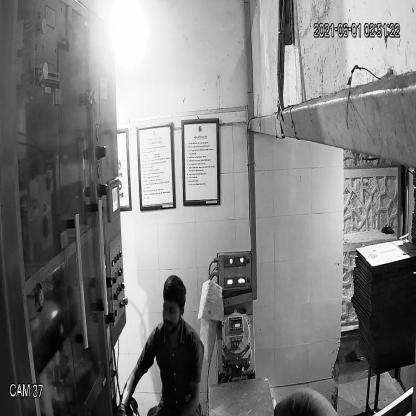no_goggles: (158, 296, 187, 320)
